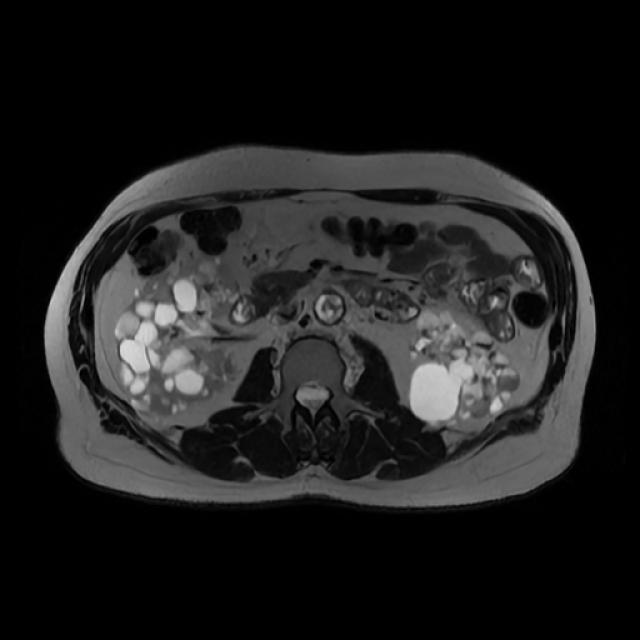sag: (117, 263, 240, 413)
sol: (412, 306, 521, 424)
